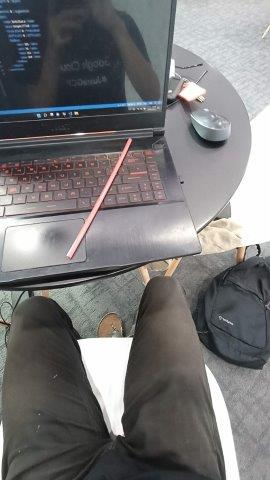sedotan: (66, 138, 132, 259)
